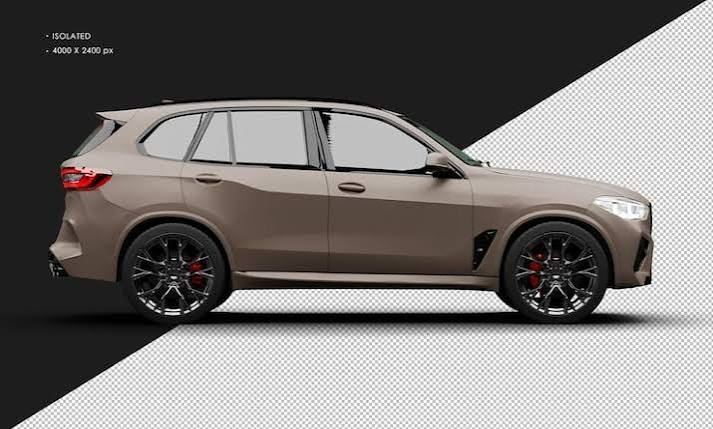car: (32, 90, 674, 314)
